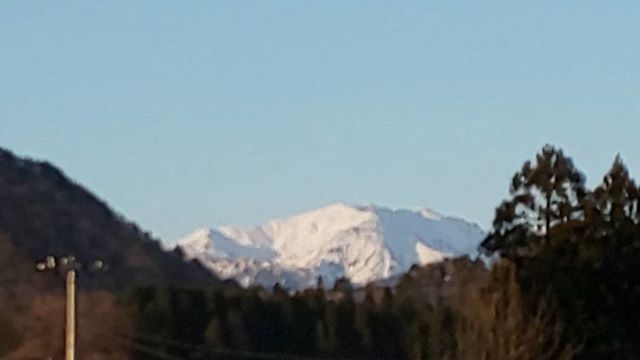mountain: (163, 161, 515, 271)
sky: (18, 1, 640, 198)
tree: (491, 134, 585, 306), (580, 149, 640, 313)
